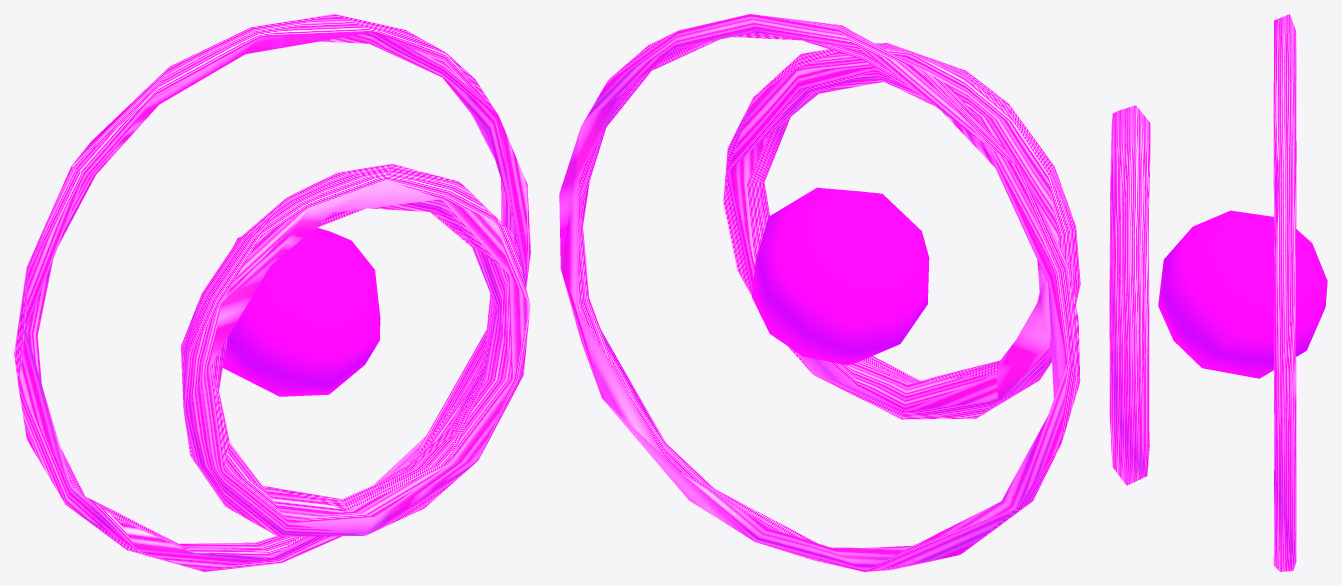
The model's file is ENGINE.glb.
3 renders of one model, left to right at view 1: azimuth 30°, elevation 25°; view 2: azimuth 150°, elevation 25°; view 3: azimuth 270°, elevation 25°, orthographic. The views are drawn at different scales.
Parts seen in each view (by area): view 1: ENGINE_02_LITE; view 2: ENGINE_02_LITE; view 3: ENGINE_02_LITE.
Part boxes in pixels (box(x1,y1,x2,y2)): ENGINE_02_LITE: box(14, 14, 530, 571); ENGINE_02_LITE: box(559, 14, 1080, 571); ENGINE_02_LITE: box(1109, 14, 1327, 571).
Bounding box in the file's own units: 1.98 × 1.98 × 0.7741.
2 materials, 1 textured.
